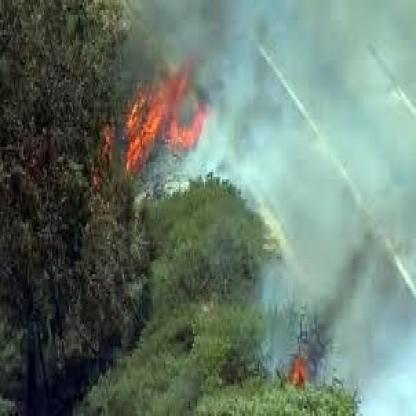fire: (104, 57, 206, 169), (289, 346, 312, 384)
smoke: (277, 9, 364, 107), (260, 116, 332, 206), (315, 236, 372, 342), (127, 10, 201, 61), (197, 131, 239, 168)
